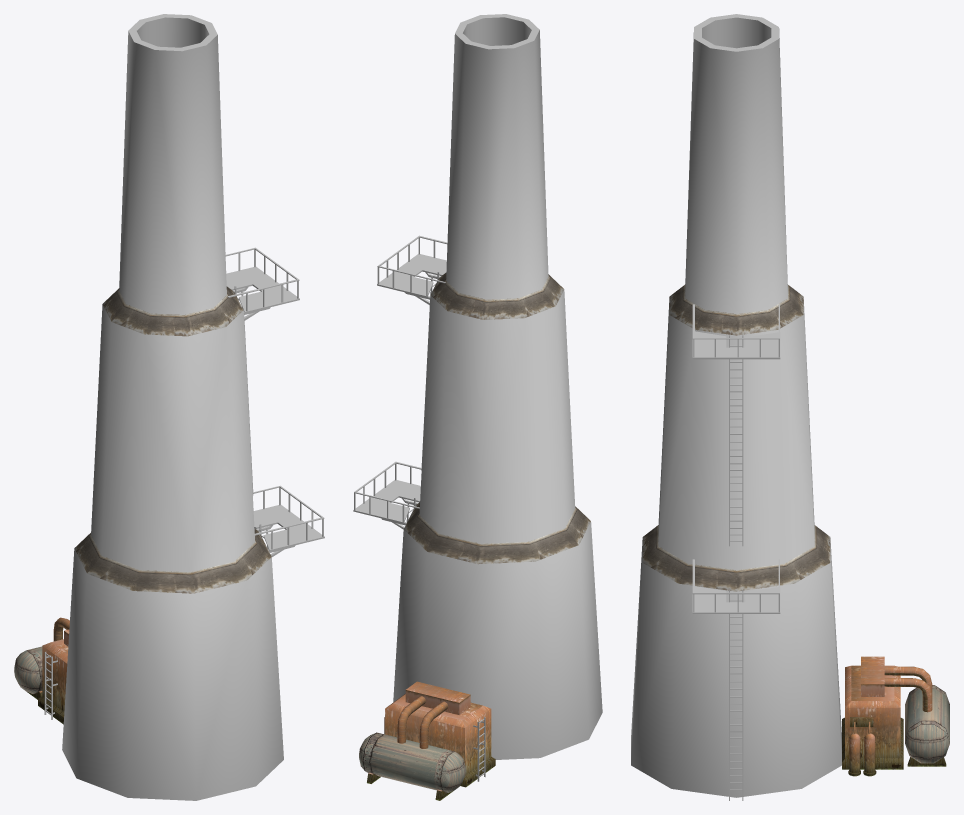
The model's file is smoke_pipe_lod0.fbx.
3 renders of one model, left to right at view 1: azimuth 30°, elevation 25°; view 2: azimuth 150°, elevation 25°; view 3: azimuth 270°, elevation 25°, orthographic. The views are drawn at different scales.
Visible parts, largest first — view 1: Mesh Object, Mesh Object_ncl1_2, Mesh Object_ncl1_1; view 2: Mesh Object, Mesh Object_ncl1_1, Mesh Object_ncl1_2; view 3: Mesh Object, Mesh Object_ncl1_1, Mesh Object_ncl1_2.
Part boxes in pixels (left/top/right/bottom): Mesh Object: left=62, top=14, right=283, bottom=800; Mesh Object_ncl1_2: left=225, top=247, right=324, bottom=556; Mesh Object_ncl1_1: left=14, top=617, right=69, bottom=724; Mesh Object: left=393, top=14, right=602, bottom=759; Mesh Object_ncl1_1: left=359, top=681, right=495, bottom=800; Mesh Object_ncl1_2: left=353, top=235, right=447, bottom=529; Mesh Object: left=631, top=14, right=841, bottom=797; Mesh Object_ncl1_1: left=842, top=656, right=949, bottom=776; Mesh Object_ncl1_2: left=692, top=304, right=780, bottom=800.
Bounding box in the file's own units: 10.66 × 32.54 × 13.08.
